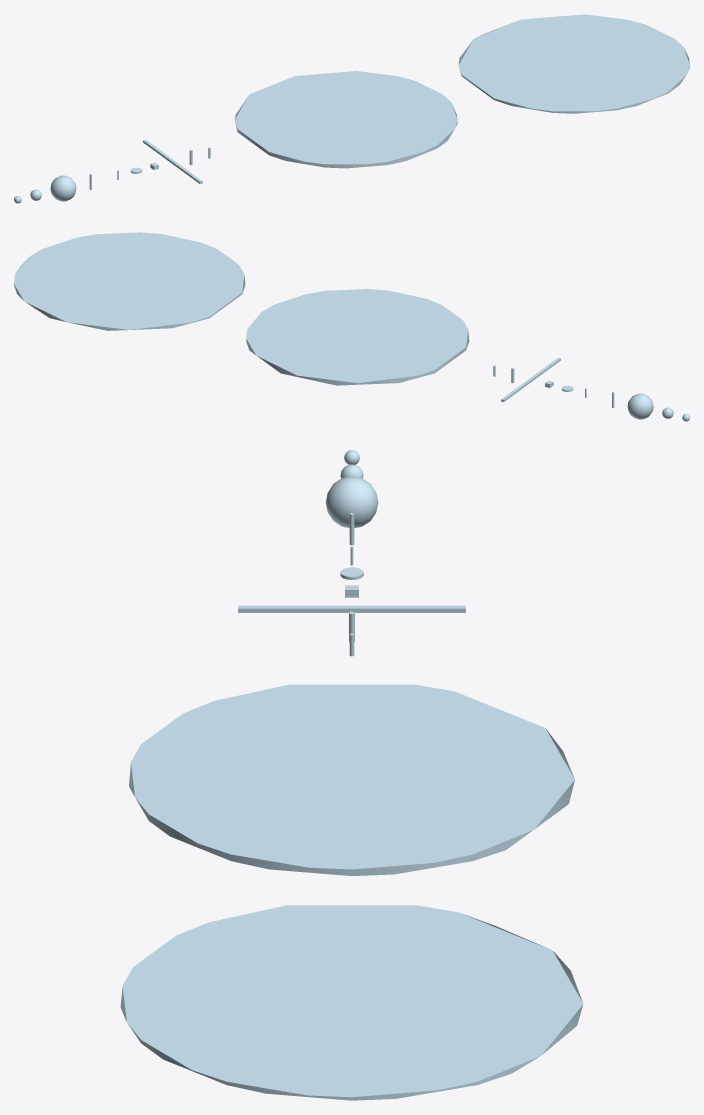
Rendered from agrokruh_kit_lod1.glb.
3 views of the same model, one above another, from view 1: azimuth 30°, elevation 25°; view 2: azimuth 150°, elevation 25°; view 3: azimuth 270°, elevation 25° (orthographic). The views are drawn at different scales.
Visible parts, largest first — view 1: Agro soil bed, Agro crop pad, Tree canopy, Agro arm boom; view 2: Agro soil bed, Agro crop pad, Tree canopy, Agro arm boom; view 3: Agro soil bed, Agro crop pad, Tree canopy, Agro arm boom.
Part boxes in pixels (x1=…): Agro soil bed: x1=458, y1=14, x2=689, y2=113; Agro crop pad: x1=234, y1=71, x2=457, y2=168; Tree canopy: x1=50, y1=175, x2=76, y2=201; Agro arm boom: x1=143, y1=139, x2=202, y2=183; Agro soil bed: x1=14, y1=232, x2=245, y2=330; Agro crop pad: x1=246, y1=289, x2=469, y2=385; Tree canopy: x1=627, y1=393, x2=653, y2=419; Agro arm boom: x1=501, y1=357, x2=560, y2=401; Agro soil bed: x1=120, y1=905, x2=583, y2=1100; Agro crop pad: x1=129, y1=684, x2=574, y2=875; Tree canopy: x1=325, y1=476, x2=378, y2=528; Agro arm boom: x1=238, y1=605, x2=465, y2=612.
Bounding box in the file's own units: 72.35 × 2.5 × 21.98.
